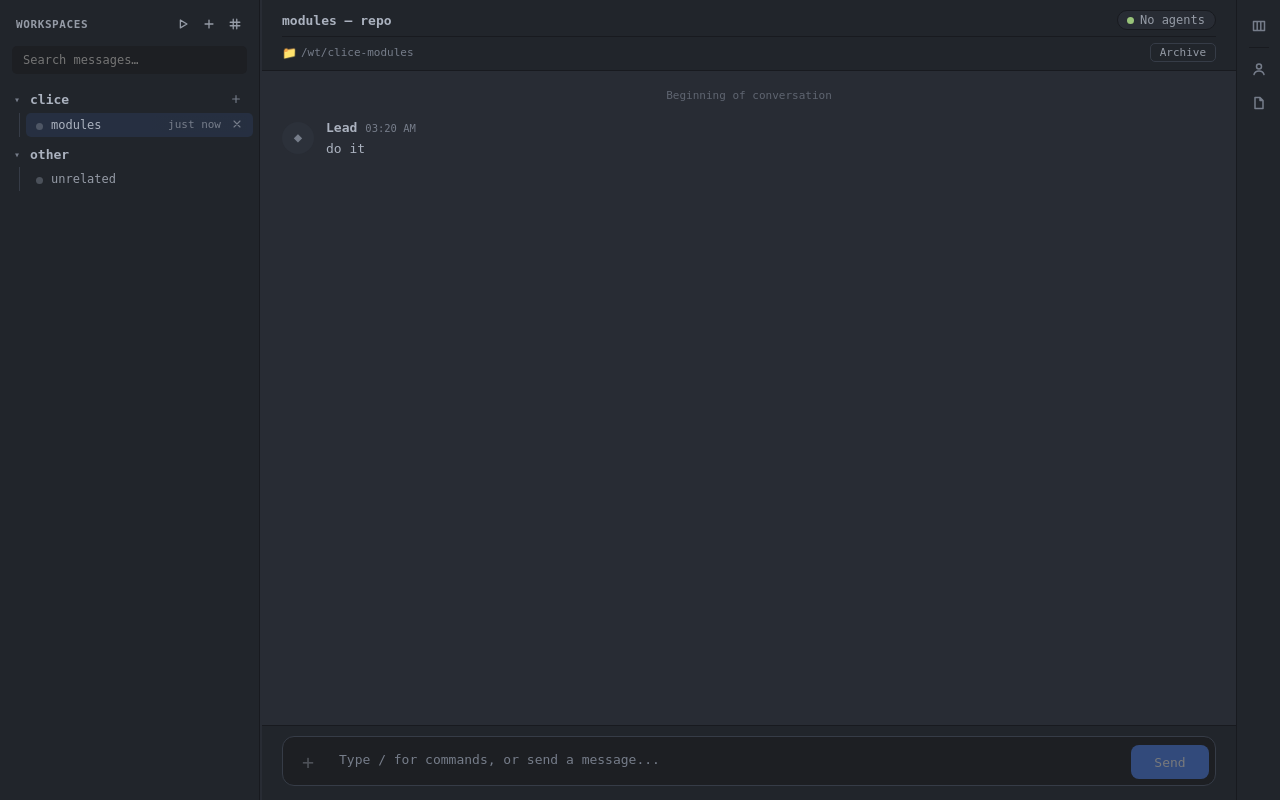
Scenario: a sender that no longer exists › stays put and says so instead of jumping to an unrelated workspace
This screenshot has width=1280, height=800.
Click the button with class "from-author" at x=342, y=128, box [326,120,357,135]
Wait 20 ms
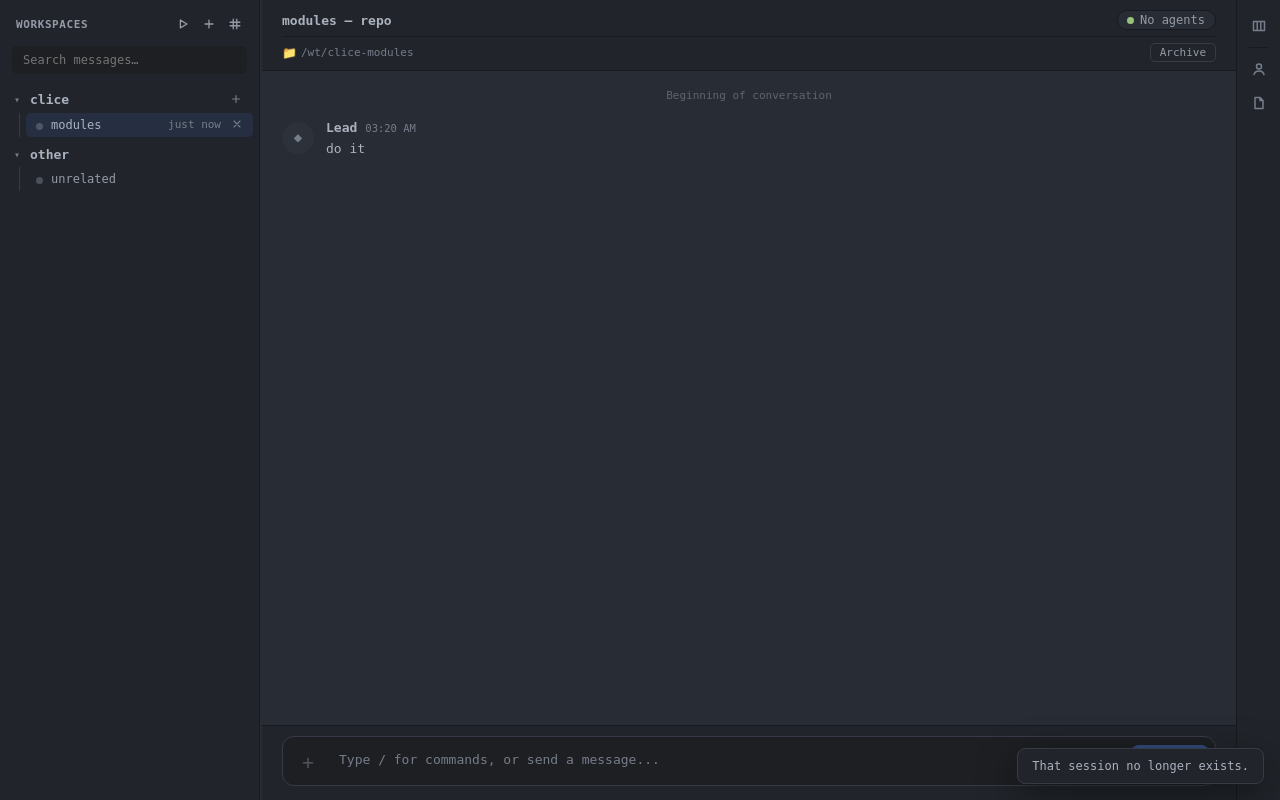
Check: the text "modules — repo" is shown, box [282,12,392,28]
Check: the text with class "info-toast" reads "That session no longer exists.", box [1032,759,1249,773]
